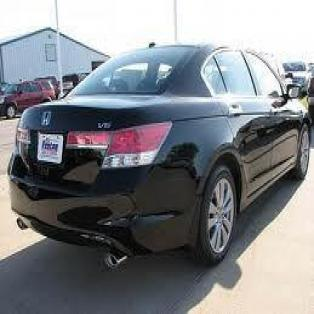Auto: (8, 37, 313, 267)
